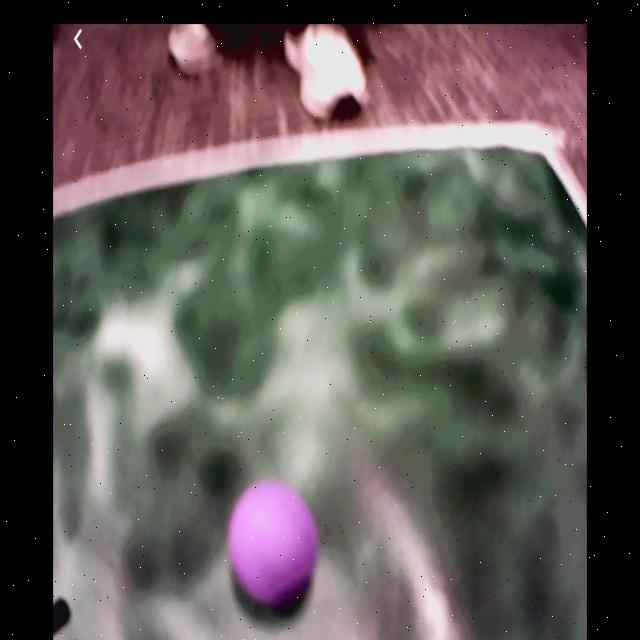ball: (229, 480, 320, 604)
